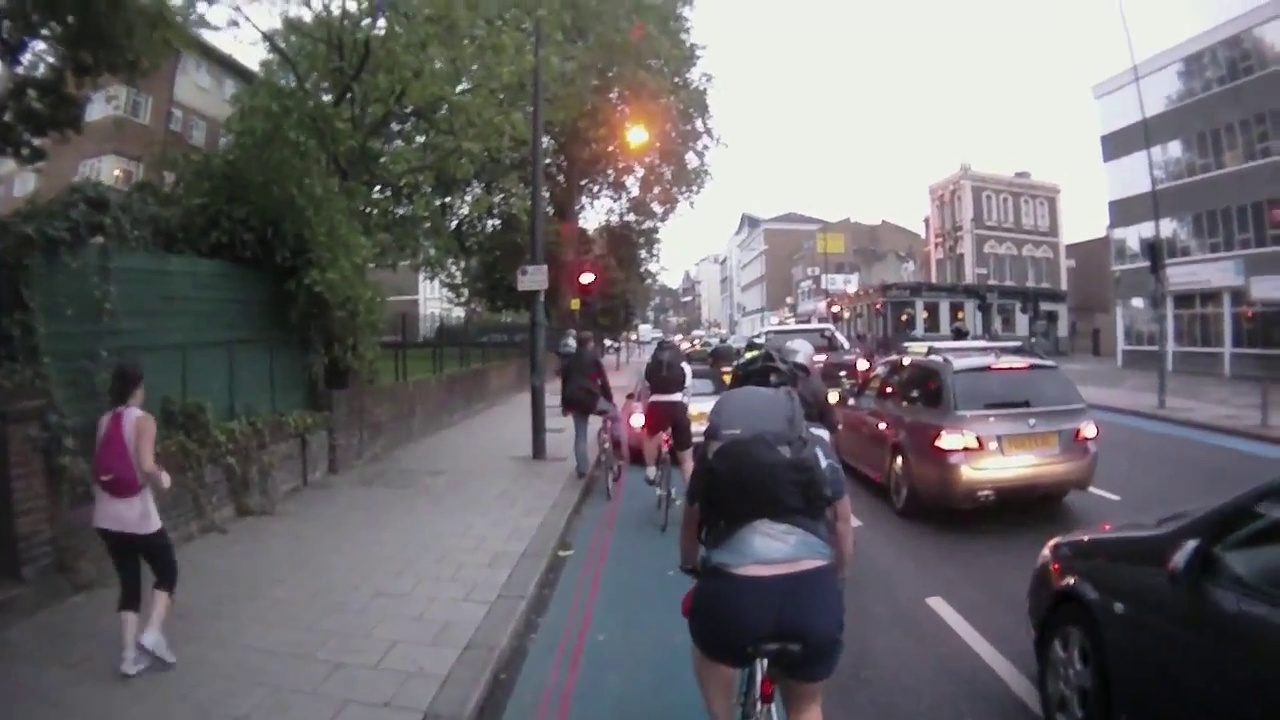cyclist_back: (683, 348, 861, 720), (638, 324, 698, 544), (561, 329, 631, 507)
